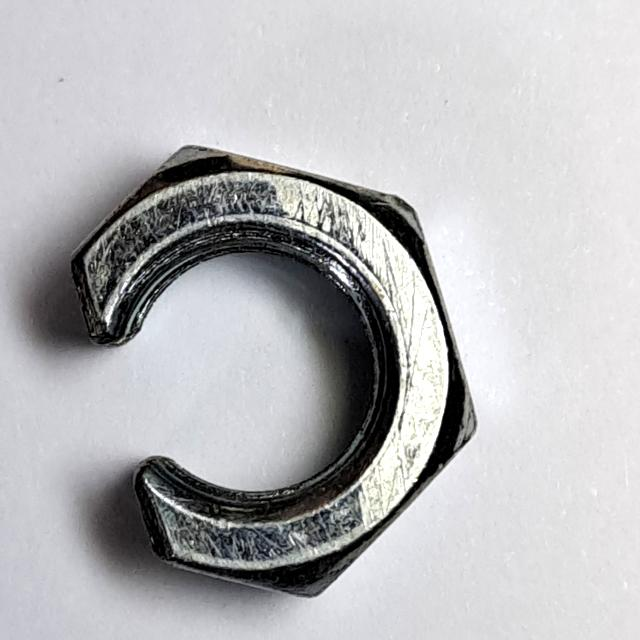Fracture: (60, 137, 490, 611)
